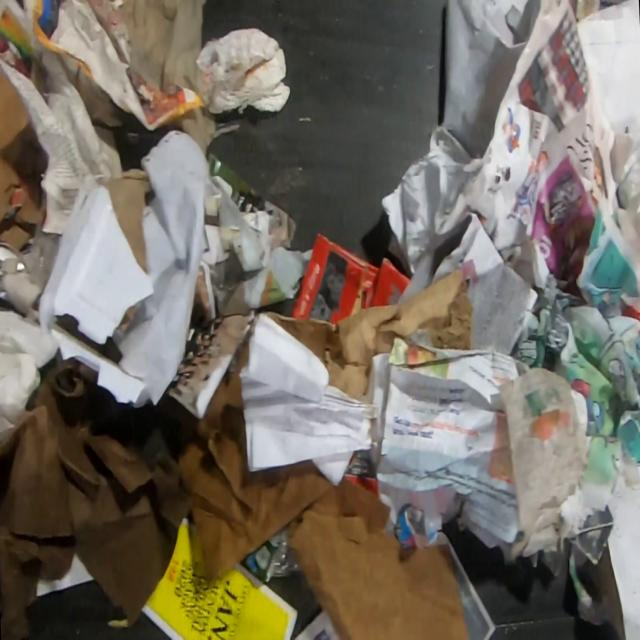cardboard: (37, 169, 180, 406), (288, 231, 411, 326), (0, 66, 49, 254)
rigid_plastic: (244, 524, 302, 583)
